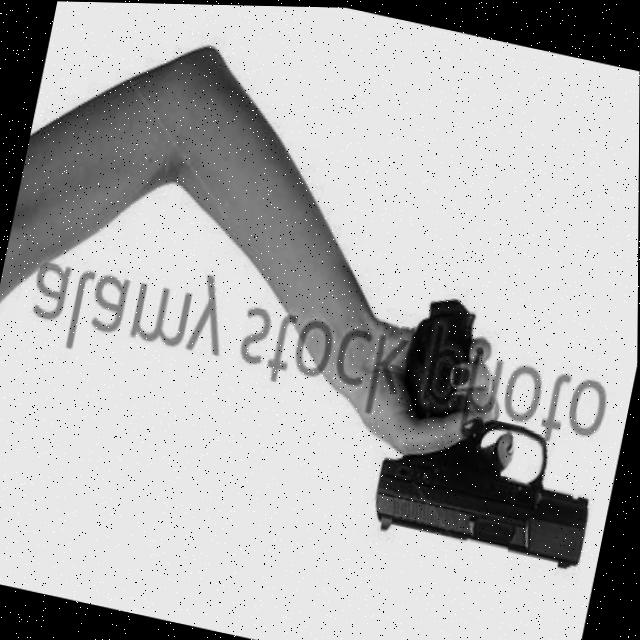pistol: (368, 393, 604, 571)
